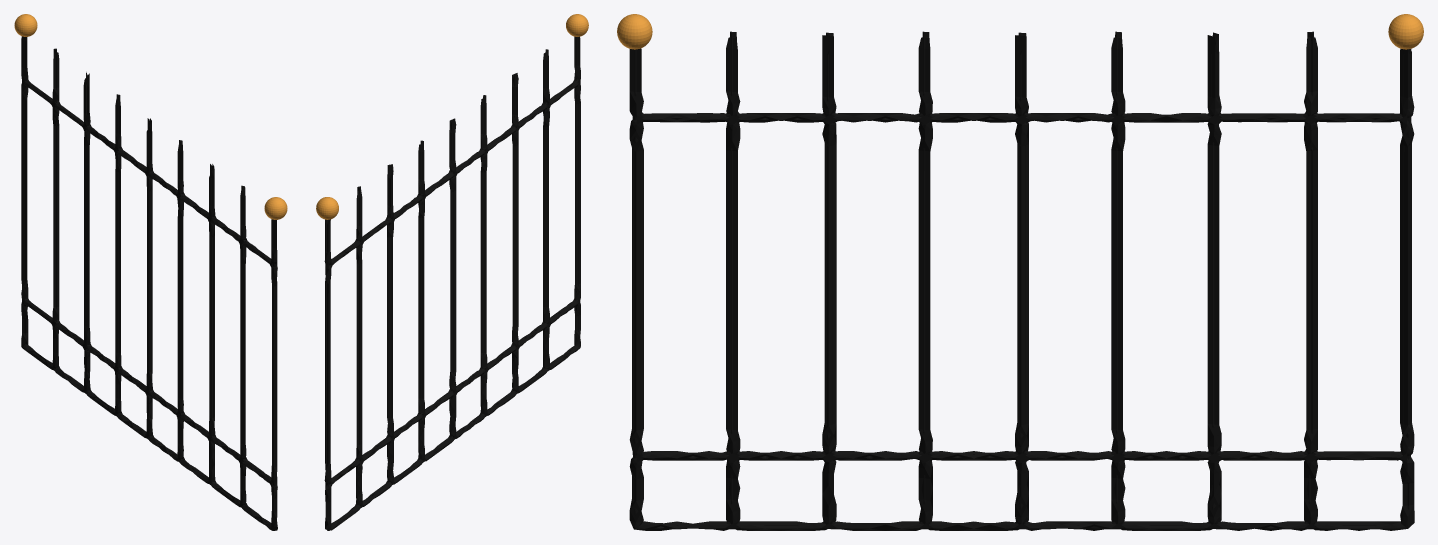
Rendered from P_PAGAR.fbx.
3 views of the same model, side by side, from view 1: azimuth 30°, elevation 25°; view 2: azimuth 150°, elevation 25°; view 3: azimuth 270°, elevation 25° (orthographic). The views are drawn at different scales.
Visible parts, largest first — view 1: Pagar; view 2: Pagar; view 3: Pagar.
Part boxes in pixels (left/top/right/bottom): Pagar: left=14, top=14, right=287, bottom=530; Pagar: left=316, top=14, right=588, bottom=530; Pagar: left=617, top=14, right=1423, bottom=530.
Bounding box in the file's own units: 1182 × 52.12 × 834.
